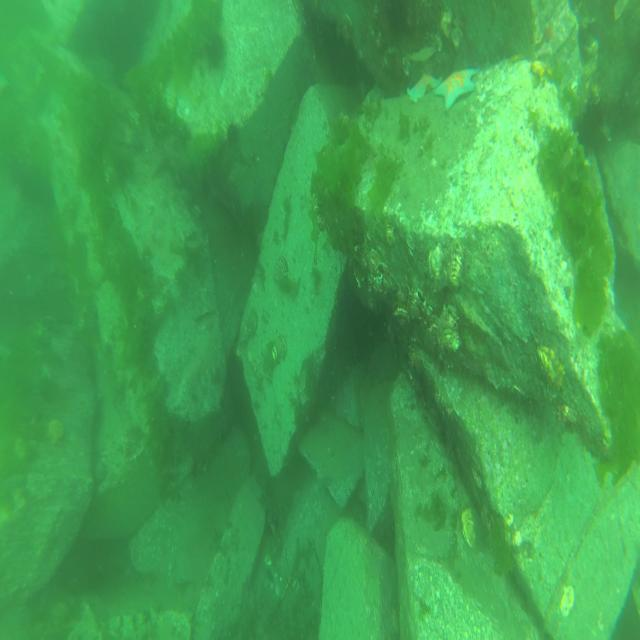echinus: (206, 34, 228, 72), (225, 117, 242, 153)
starfish: (435, 65, 478, 109), (404, 70, 442, 102)
